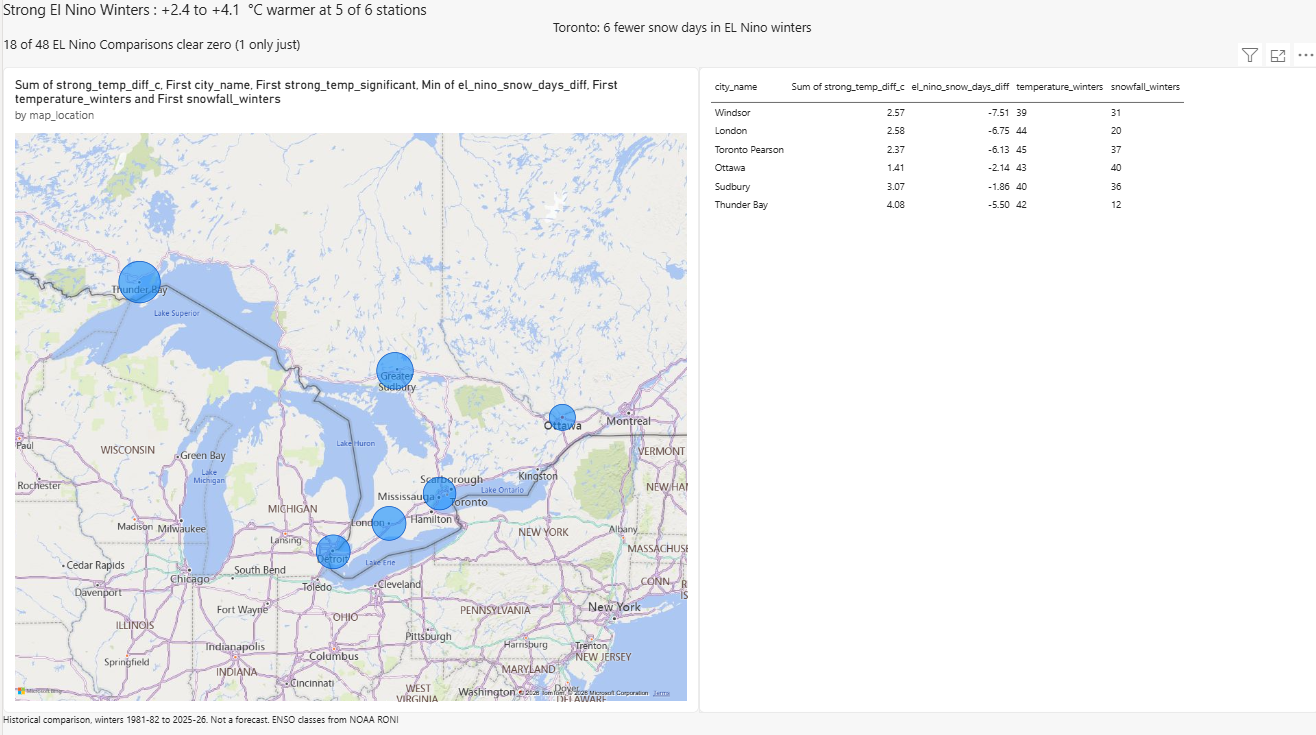

What the dashboard file says about the page in this screenshot:
{"tool":"powerbi","page":{"name":"Overview and station map","canvas":[1920,1080],"ordinal":0},"visuals":[{"type":"map","fields":{"Category":["v_dash_map.map_location"],"Size":["Sum(v_dash_map.strong_temp_diff_c)"]},"box":[0,99.9,1015.3,942.2],"z":0},{"type":"tableEx","fields":{"Values":["v_dash_map.city_name","Sum(v_dash_map.strong_temp_diff_c)","v_dash_map.el_nino_snow_days_diff","v_dash_map.temperature_winters","v_dash_map.snowfall_winters"]},"box":[1015.3,99.9,904.7,942.2],"z":1},{"type":"textbox","box":[0,0,1920,99.9],"z":2},{"type":"textbox","box":[0,1042.1,1015.3,37.5],"z":3}]}

Visuals, with their boxes in screenshot pixels (x1, y1, x2, y2), scaled from the page's 1920x1080 canvas onto the 1316x735 screenshot:
map - v_dash_map.map_location x Sum(v_dash_map.strong_temp_diff_c): [0, 68, 696, 709]
tableEx - v_dash_map.city_name x Sum(v_dash_map.strong_temp_diff_c): [696, 68, 1315, 709]
textbox: [0, 0, 1315, 68]
textbox: [0, 709, 696, 734]
